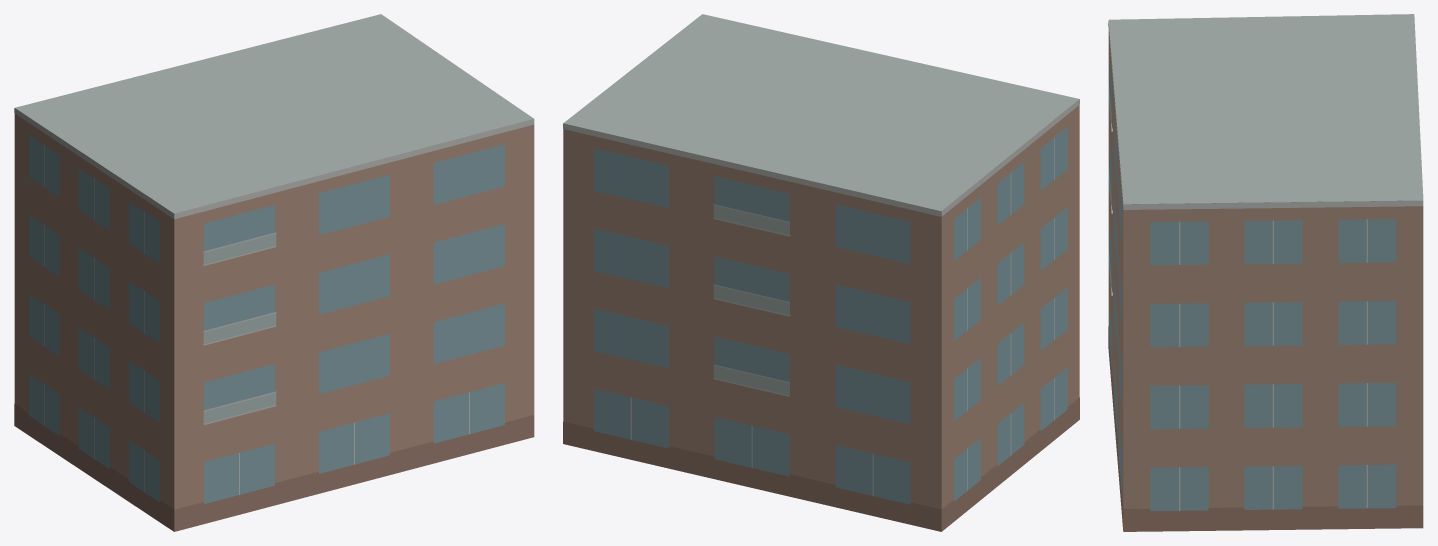
File: survey-upis-32761419.glb
3 renders of one model, left to right at view 1: azimuth 30°, elevation 25°; view 2: azimuth 150°, elevation 25°; view 3: azimuth 270°, elevation 25°, orthographic. The views are drawn at different scales.
Parts seen in each view (by area): view 1: survey-upis-32761419.tmp; view 2: survey-upis-32761419.tmp; view 3: survey-upis-32761419.tmp.
Part boxes in pixels (x1,y1,x2,y2): survey-upis-32761419.tmp: [14, 14, 534, 531]; survey-upis-32761419.tmp: [563, 14, 1079, 531]; survey-upis-32761419.tmp: [1108, 14, 1423, 531].
Bounding box in the file's own units: 17.19 × 13.8 × 12.03.
